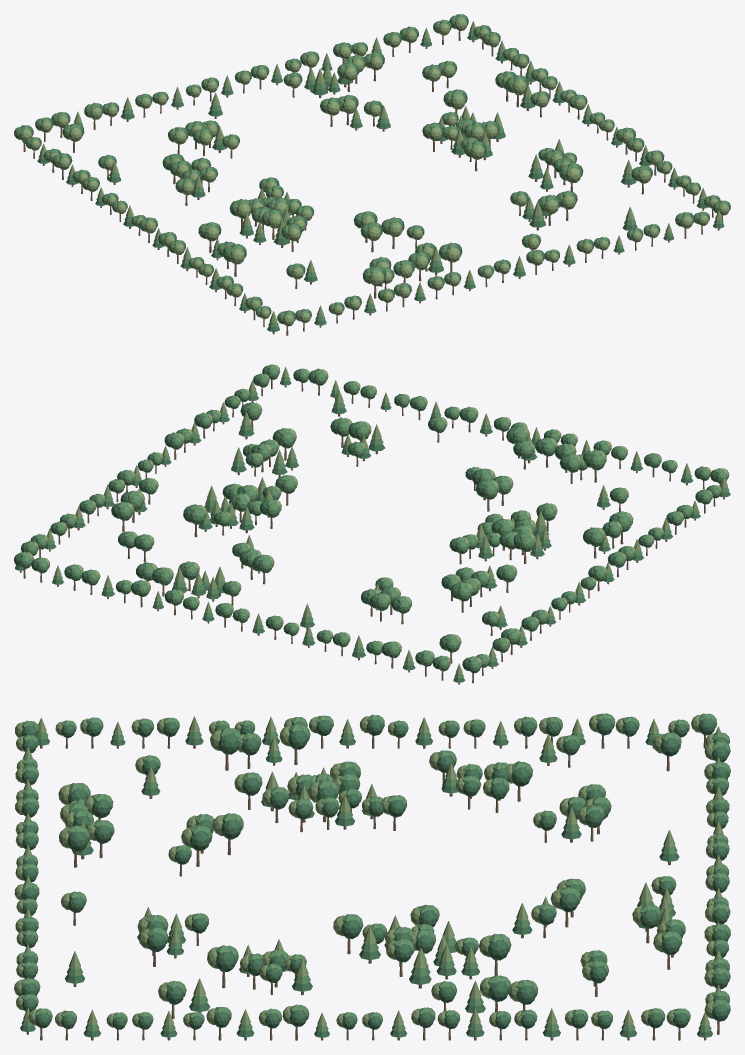
Rendered from SM_R01_Trees.fbx.
3 renders of one model, top to bottom at view 1: azimuth 30°, elevation 25°; view 2: azimuth 150°, elevation 25°; view 3: azimuth 270°, elevation 25°, orthographic. The views are drawn at different scales.
Parts seen in each view (by area): view 1: SM_R01_Trees; view 2: SM_R01_Trees; view 3: SM_R01_Trees.
Part boxes in pixels (x1,y1,x2,y2): SM_R01_Trees: (14, 14, 730, 335); SM_R01_Trees: (14, 364, 730, 684); SM_R01_Trees: (14, 713, 730, 1040).
Bounding box in the file's own units: 112 × 112 × 8.48.
